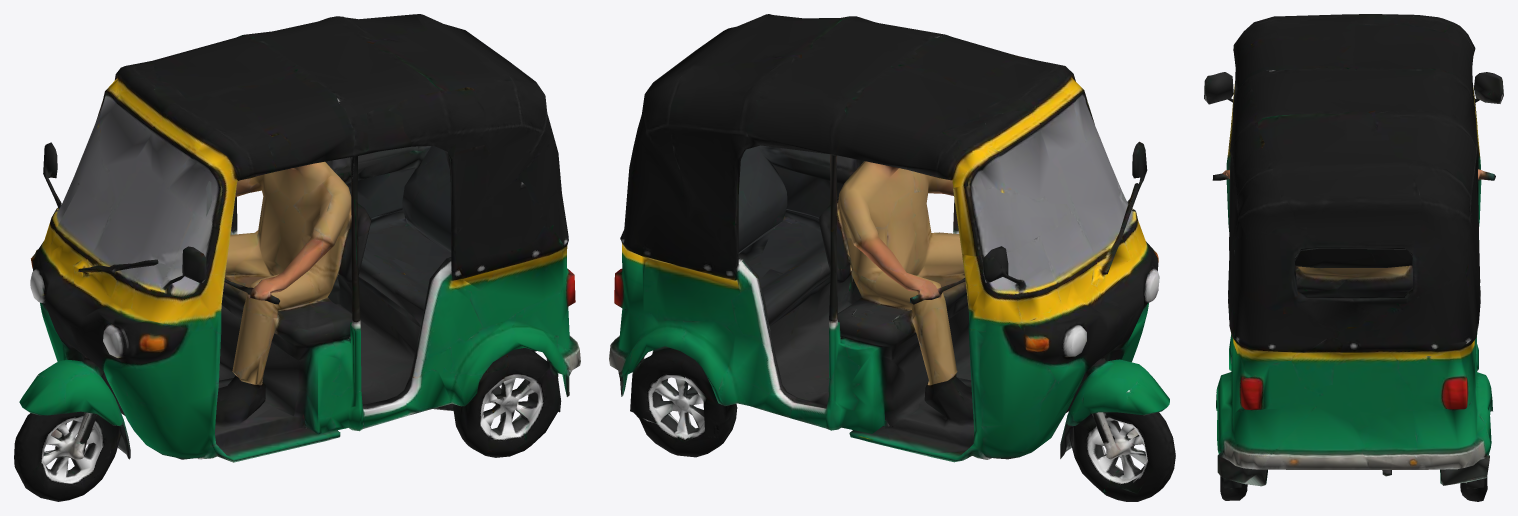
3 renders of one model, left to right at view 1: azimuth 30°, elevation 25°; view 2: azimuth 150°, elevation 25°; view 3: azimuth 270°, elevation 25°, orthographic. The views are drawn at different scales.
Visible parts, largest first — view 1: mesh_node; view 2: mesh_node; view 3: mesh_node.
Part boxes in pixels (box(x1,y1,x2,y2)): mesh_node: box(14, 14, 580, 501); mesh_node: box(609, 14, 1175, 501); mesh_node: box(1204, 14, 1503, 501).
Size of the model in its own units: 3.68 by 2.59 by 1.96.
Materials: 1 (1 with a texture image).
